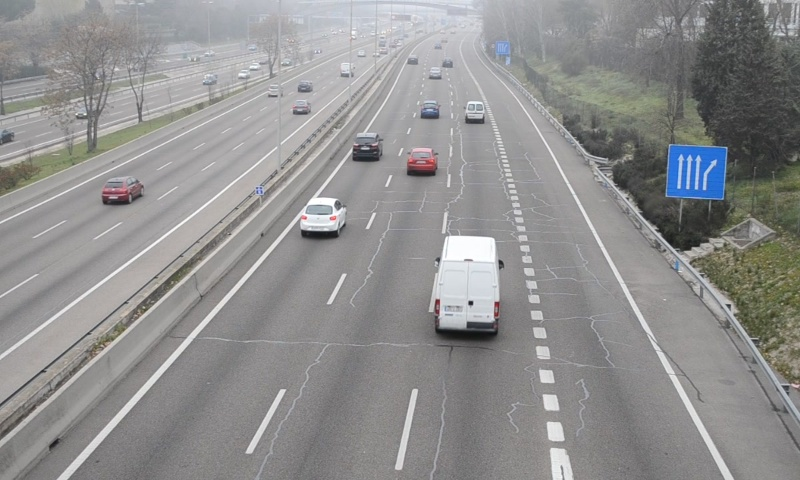car: (300, 198, 346, 232), (352, 132, 382, 160), (406, 147, 437, 174), (421, 100, 440, 118)
van: (434, 235, 502, 336), (464, 100, 486, 125)
